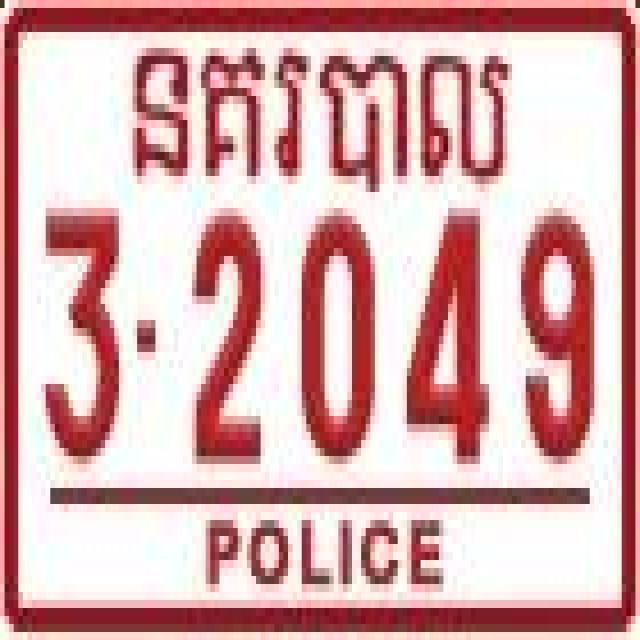Police: (128, 32, 514, 200)
